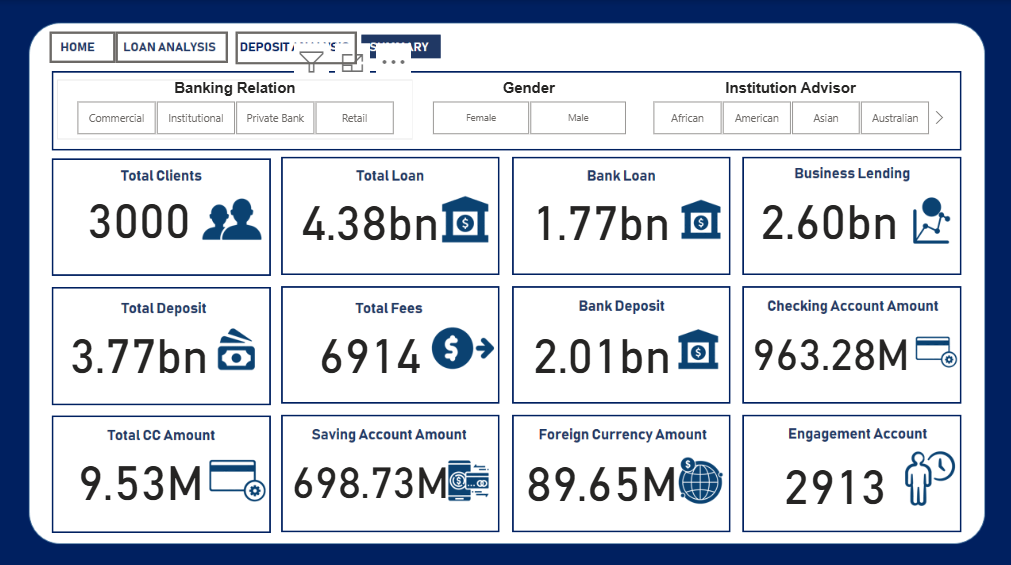

Layout of this report page (visuals, bound fields, positions):
{"tool":"powerbi","page":{"name":"Summary","canvas":[1280,720],"ordinal":3},"visuals":[{"type":"card","fields":{"Values":["Query1.Total Loan"]},"box":[349.6,224.9,240,96.4],"z":0},{"type":"card","fields":{"Values":["Sum(Query1.Bank Loans)"]},"box":[640.6,230.6,240,85],"z":1000},{"type":"card","fields":{"Values":["CountNonNull(Query1.Name)"]},"box":[66.1,224.9,224.9,90.7],"z":2000},{"type":"card","fields":{"Values":["Sum(Query1.Business Lending)"]},"box":[927.9,226.8,240,88.8],"z":3000},{"type":"card","fields":{"Values":["Query1.Total Deposit"]},"box":[81.3,398.7,194.6,83.2],"z":4000},{"type":"card","fields":{"Values":["Sum(Query1.Bank Deposits)"]},"box":[667.1,398.7,189,83.2],"z":5000},{"type":"card","fields":{"Values":["Sum(Query1.Checking Accounts)"]},"box":[939.2,398.7,221.1,83.2],"z":6000},{"type":"card","fields":{"Values":["Sum(Query1.Credit Card Balance)"]},"box":[68,525.4,224.9,149.3],"z":7000},{"type":"card","fields":{"Values":["Sum(Query1.Saving Accounts)"]},"box":[364.7,559.4,209.8,83.2],"z":8000},{"type":"card","fields":{"Values":["Sum(Query1.Foreign Currency Account)"]},"box":[612.3,559.4,298.6,83.2],"z":9000},{"type":"card","fields":{"Values":["Query1.Total Fees"]},"box":[357.2,395,224.9,90.7],"z":10000},{"type":"slicer","title":"Banking Relation","fields":{"Values":["Query1.BRId"]},"box":[75.6,100.2,447.9,75.6],"z":11000},{"type":"slicer","title":"Gender","fields":{"Values":["Query1.GenderId"]},"box":[523.5,100.2,292.9,75.6],"z":12000},{"type":"slicer","title":"Institution Advisor","fields":{"Values":["Query1.Nationality"]},"box":[801.3,100.2,396.9,75.6],"z":13000},{"type":"card","fields":{"Values":["Count(Query1.Name)"]},"box":[943,559.4,224.9,90.7],"z":14000},{"type":"actionButton","box":[66.1,39.7,83.2,39.7],"z":15000},{"type":"actionButton","box":[149.3,39.7,141.7,39.7],"z":16000},{"type":"actionButton","box":[300.5,39.7,153.1,41.6],"z":17000}]}

Visuals, with their boxes on the page's 1280x720 design canvas (x1, y1, x2, y2). These are canvas units, not pixel positions in the 1011x565 screenshot, which may show the page scaled, cropped or inside an application window:
card - Query1.Total Loan: box(350, 225, 590, 321)
card - Sum(Query1.Bank Loans): box(641, 231, 881, 316)
card - CountNonNull(Query1.Name): box(66, 225, 291, 316)
card - Sum(Query1.Business Lending): box(928, 227, 1168, 316)
card - Query1.Total Deposit: box(81, 399, 276, 482)
card - Sum(Query1.Bank Deposits): box(667, 399, 856, 482)
card - Sum(Query1.Checking Accounts): box(939, 399, 1160, 482)
card - Sum(Query1.Credit Card Balance): box(68, 525, 293, 675)
card - Sum(Query1.Saving Accounts): box(365, 559, 574, 643)
card - Sum(Query1.Foreign Currency Account): box(612, 559, 911, 643)
card - Query1.Total Fees: box(357, 395, 582, 486)
"Banking Relation" slicer: box(76, 100, 524, 176)
"Gender" slicer: box(524, 100, 816, 176)
"Institution Advisor" slicer: box(801, 100, 1198, 176)
card - Count(Query1.Name): box(943, 559, 1168, 650)
actionButton: box(66, 40, 149, 79)
actionButton: box(149, 40, 291, 79)
actionButton: box(300, 40, 454, 81)
